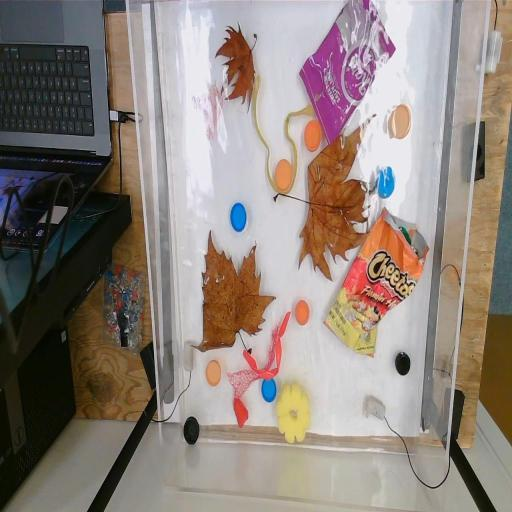Bottle Cap: (391, 101, 413, 140), (302, 118, 324, 152), (377, 165, 397, 199), (229, 202, 248, 234), (183, 414, 201, 446), (275, 158, 292, 190), (204, 358, 222, 388), (261, 373, 277, 405), (294, 297, 310, 328), (394, 350, 412, 376)
Cone Cap: (233, 396, 250, 430)
Leaf: (272, 114, 380, 282), (189, 228, 277, 358), (216, 22, 258, 110)
Netting: (226, 316, 280, 396)
Plastic Bag: (323, 207, 429, 361), (299, 0, 396, 146)
Plastic Strand: (251, 74, 313, 192), (242, 312, 290, 373)
Sponge: (272, 384, 314, 442)
